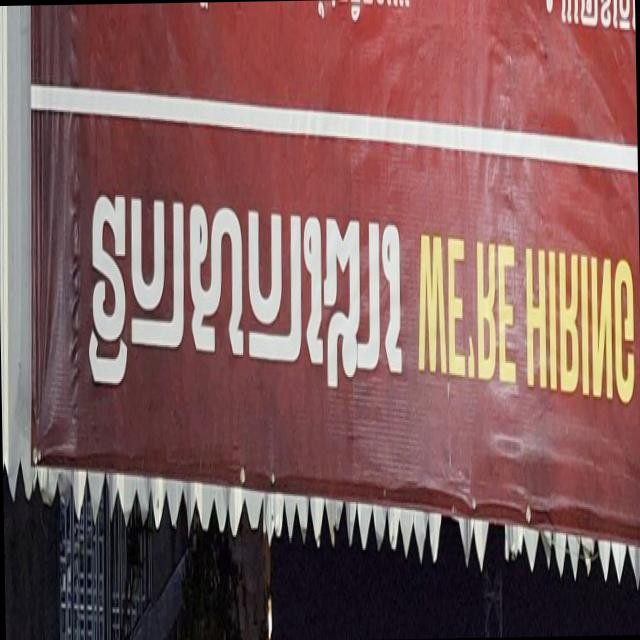Yolov11kh: (68, 131, 409, 467)
